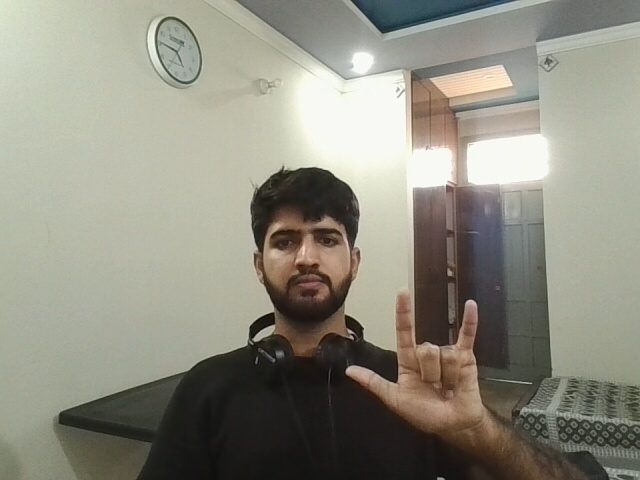I Love You: (342, 281, 520, 452)
